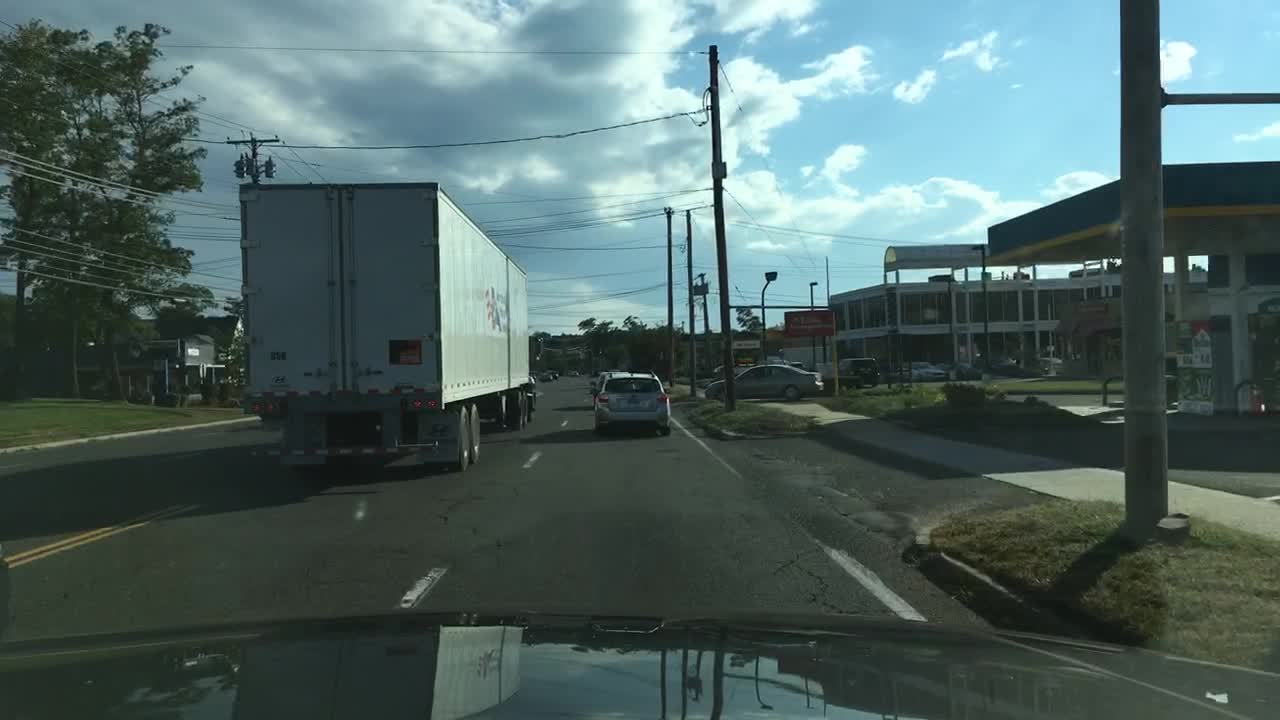car: (592, 370, 674, 437), (703, 360, 824, 400), (712, 354, 807, 379), (826, 354, 884, 386), (588, 366, 624, 400), (899, 360, 948, 382), (938, 357, 987, 379), (1036, 356, 1067, 371), (537, 371, 558, 383), (546, 368, 562, 380), (529, 370, 543, 383), (566, 368, 583, 377)
traffic sign: (690, 282, 708, 297)
truck: (236, 177, 539, 476)
